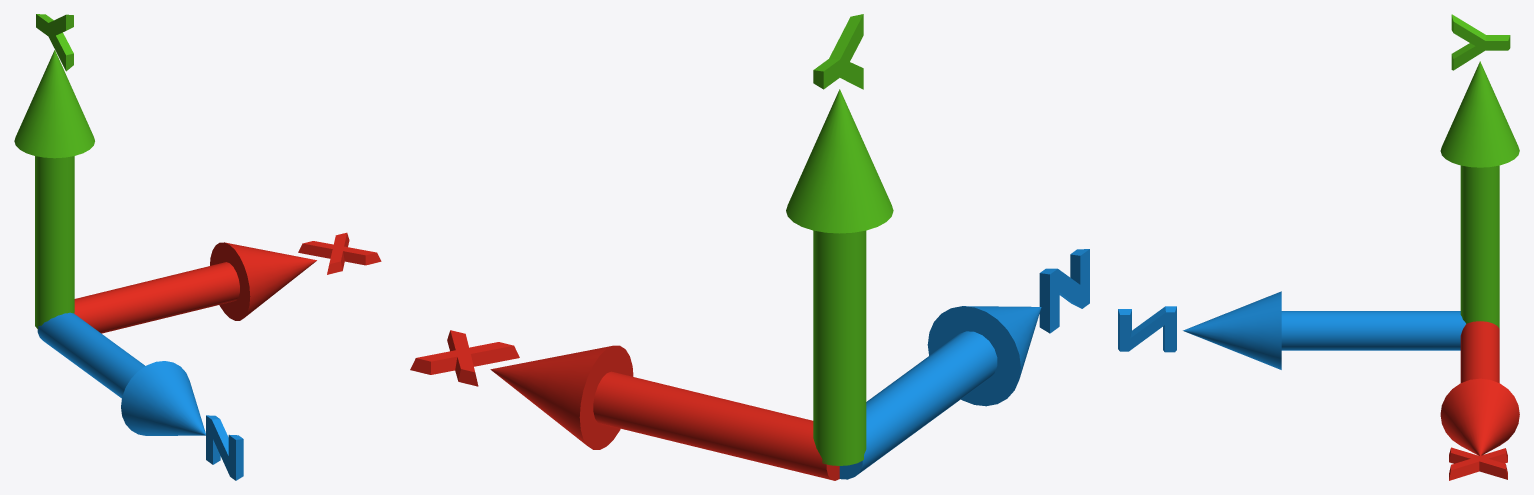
File: AxisHelper.FBX
3 renders of one model, left to right at view 1: azimuth 30°, elevation 25°; view 2: azimuth 150°, elevation 25°; view 3: azimuth 270°, elevation 25°, orthographic. The views are drawn at different scales.
Parts seen in each view (by area): view 1: Cylinder01, Cylinder03, Cone02, Cone01, Cylinder02, Cone03, Text01, Text02, Text03; view 2: Cylinder03, Cylinder01, Cone01, Cylinder02, Cone03, Cone02, Text02, Text01, Text03; view 3: Cylinder02, Cylinder01, Cone01, Cone03, Cone02, Cylinder03, Text01, Text03, Text02.
Boxes of the visible parts, x1,y1,x2,y2 form: Cylinder01: (35, 156, 74, 328); Cylinder03: (74, 262, 239, 333); Cone02: (121, 361, 205, 435); Cone01: (14, 50, 94, 158); Cylinder02: (37, 312, 145, 398); Cone03: (210, 242, 316, 320); Text01: (206, 415, 243, 480); Text02: (298, 232, 381, 274); Text03: (36, 14, 73, 71); Cylinder03: (593, 371, 839, 480); Cylinder01: (813, 230, 866, 465); Cone01: (786, 89, 893, 233); Cylinder02: (839, 331, 997, 479); Cone03: (490, 345, 633, 449); Cone02: (927, 306, 1041, 406); Text02: (410, 330, 519, 386); Text01: (1039, 249, 1089, 333); Text03: (813, 14, 863, 89); Cylinder02: (1281, 311, 1465, 350); Cylinder01: (1460, 165, 1499, 328); Cone01: (1440, 61, 1519, 167); Cone03: (1440, 378, 1519, 455); Cone02: (1183, 291, 1281, 369); Cylinder03: (1460, 321, 1499, 382); Text01: (1118, 306, 1176, 352); Text03: (1451, 14, 1510, 70); Text02: (1449, 447, 1507, 480).
Size of the model in its own units: 19.75 by 19.53 by 20.25.
